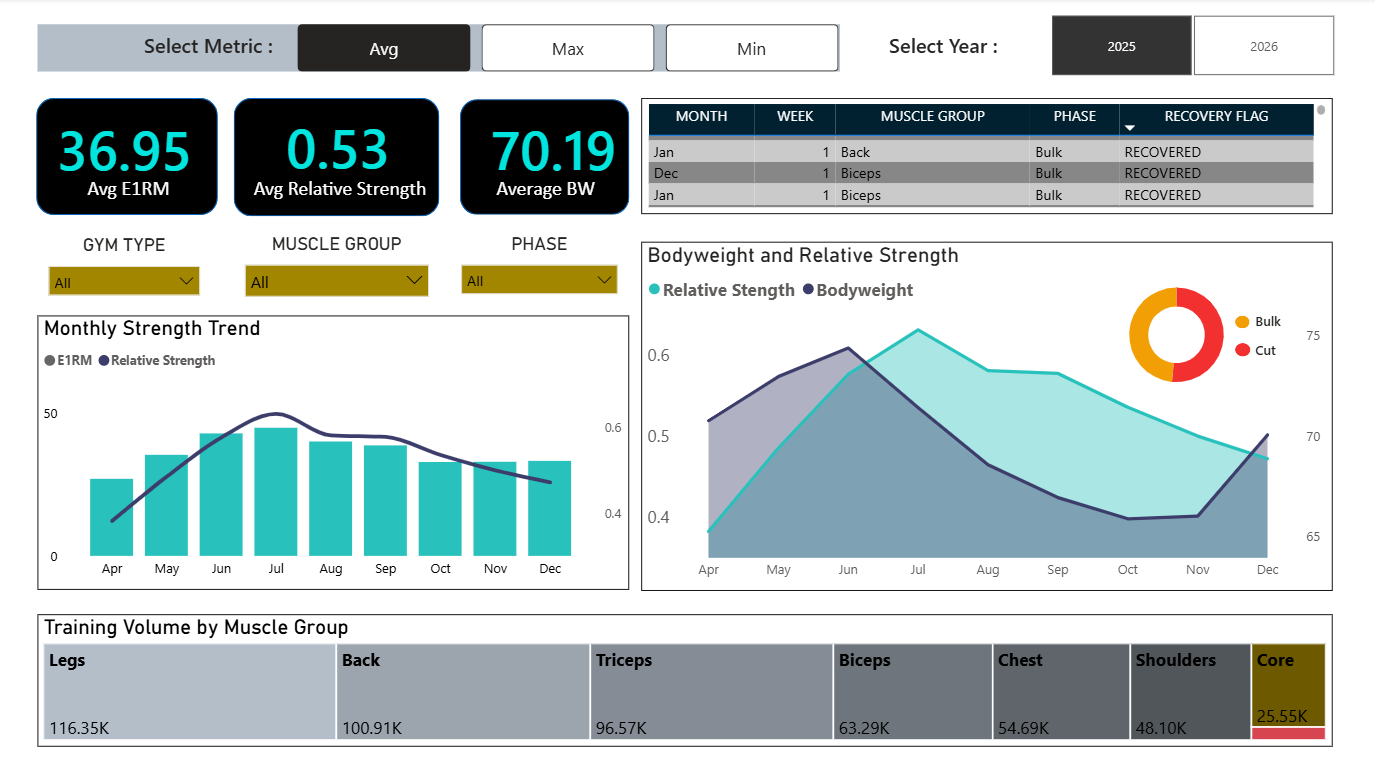

Layout of this report page (visuals, bound fields, positions):
{"tool":"powerbi","page":{"name":"Page 1","canvas":[1280,720],"ordinal":0},"visuals":[{"type":"slicer","title":"MUSCLE GROUP","fields":{"Values":["weekly_workout.MUSCLE_GROUP"]},"box":[217.5,218.8,191.2,75],"z":0},{"type":"tableEx","fields":{"Values":["weekly_workout.MONTH","weekly_workout.WEEK","weekly_workout.MUSCLE_GROUP","weekly_workout.PHASE","weekly_workout.RECOVERY_FLAG"]},"box":[596.5,93,643,108.1],"z":1000},{"type":"shape","box":[34.9,24.4,746.5,44.2],"z":2000},{"type":"shape","title":"Shape kp","box":[33.3,93.3,168.9,108.9],"z":3000},{"type":"cardVisual","title":"Card kp1 avg","fields":{"Data":["Avg(weekly_workout.AVG_E1RM)"]},"box":[25,100.8,276.7,100.8],"z":4000},{"type":"shape","title":"Shape kp","box":[217.5,92.5,191.2,110],"z":5000},{"type":"cardVisual","title":"card kp2 avg","fields":{"Data":["Avg(weekly_workout.AVG_RELATIVE_STRENGTH)"]},"box":[236.9,83.1,243.1,118.5],"z":6000},{"type":"textbox","title":"Text box Kpi3 avg","box":[192.5,160,250.8,65.8],"z":7000},{"type":"shape","title":"Shape kp","box":[427.5,93.8,157.5,107.5],"z":8000},{"type":"cardVisual","title":"card kp3 avg","fields":{"Data":["Avg(feature_engineered_dataset.BODYWEIGHT)"]},"box":[427.8,101.1,276.7,100],"z":9000},{"type":"slicer","title":"PHASE","fields":{"Values":["weekly_workout.PHASE"]},"box":[418.8,218.8,166.2,75],"z":10000},{"type":"slicer","title":"GYM TYPE","fields":{"Values":["weekly_workout.GYM_TYPE"]},"box":[35,220,161.2,73.8],"z":11000},{"type":"treemap","title":"Training Volume by Muscle Group","fields":{"Group":["weekly_workout.MUSCLE_GROUP"],"Values":["Sum(weekly_workout.TOTAL_VOLUME)"]},"box":[34.9,573.3,1204.7,123.3],"z":12000},{"type":"lineClusteredColumnComboChart","title":"Monthly Strength Trend","fields":{"Y2":["Avg(weekly_workout.AVG_RELATIVE_STRENGTH)"],"Y":["Avg(weekly_workout.AVG_E1RM)"],"Category":["feature_engineered_dataset.MONTH"]},"box":[35,295,550,255],"z":13000},{"type":"lineChart","title":"Bodyweight and Relative Strength","fields":{"Y":["Avg(weekly_workout.AVG_RELATIVE_STRENGTH)"],"Y2":["Avg(feature_engineered_dataset.BODYWEIGHT)"],"Category":["feature_engineered_dataset.MONTH"]},"box":[596.5,226.7,643,324.4],"z":14000},{"type":"bookmarkNavigator","box":[276.7,24.4,504.7,44.2],"z":15000},{"type":"donutChart","title":"Donut PHASE","fields":{"Category":["weekly_workout.PHASE"],"Y":["CountNonNull(weekly_workout.WEEK)"]},"box":[981.7,253.5,226.4,120],"z":16000},{"type":"textbox","box":[129.1,26.7,159.3,41.9],"z":17000},{"type":"textbox","title":"Text box Kpi1 avg","box":[25.1,160.8,183.8,65],"z":18000},{"type":"textbox","title":"Text box Kpi2 avg","box":[443.7,160.3,132.9,65.7],"z":19000},{"type":"shape","title":"D1 Shape","box":[1148.8,295.4,13.7,12.1],"z":20000},{"type":"shape","title":"D2 Shape","box":[1148.5,321.3,14.4,12.5],"z":21000},{"type":"textbox","title":"Donut Text box","box":[1162.9,313.2,102.5,55.6],"z":22000},{"type":"textbox","title":"Donut Text box","box":[1162.9,286.3,102.5,55.6],"z":23000},{"type":"slicer","fields":{"Values":["feature_engineered_dataset.YEAR"]},"box":[952.3,9.3,312.8,69.8],"z":36000},{"type":"textbox","box":[822.1,26.7,159.3,41.9],"z":37000}]}

Visuals, with their boxes in screenshot pixels (x1, y1, x2, y2), scaled from the page's 1280x720 canvas onto the 1375x772 screenshot:
"MUSCLE GROUP" slicer: bbox=[234, 235, 439, 315]
tableEx - weekly_workout.MONTH x weekly_workout.WEEK: bbox=[641, 100, 1331, 216]
shape: bbox=[37, 26, 839, 74]
"Shape kp" shape: bbox=[36, 100, 217, 217]
"Card kp1 avg" cardVisual: bbox=[27, 108, 324, 216]
"Shape kp" shape: bbox=[234, 99, 439, 217]
"card kp2 avg" cardVisual: bbox=[254, 89, 516, 216]
"Text box Kpi3 avg" textbox: bbox=[207, 172, 476, 242]
"Shape kp" shape: bbox=[459, 101, 628, 216]
"card kp3 avg" cardVisual: bbox=[460, 108, 757, 216]
"PHASE" slicer: bbox=[450, 235, 628, 315]
"GYM TYPE" slicer: bbox=[38, 236, 211, 315]
"Training Volume by Muscle Group" treemap: bbox=[37, 615, 1332, 747]
"Monthly Strength Trend" lineClusteredColumnComboChart: bbox=[38, 316, 628, 590]
"Bodyweight and Relative Strength" lineChart: bbox=[641, 243, 1331, 591]
bookmarkNavigator: bbox=[297, 26, 839, 74]
"Donut PHASE" donutChart: bbox=[1055, 272, 1298, 400]
textbox: bbox=[139, 29, 310, 74]
"Text box Kpi1 avg" textbox: bbox=[27, 172, 224, 242]
"Text box Kpi2 avg" textbox: bbox=[477, 172, 619, 242]
"D1 Shape" shape: bbox=[1234, 317, 1249, 330]
"D2 Shape" shape: bbox=[1234, 345, 1249, 358]
"Donut Text box" textbox: bbox=[1249, 336, 1359, 395]
"Donut Text box" textbox: bbox=[1249, 307, 1359, 367]
slicer - feature_engineered_dataset.YEAR: bbox=[1023, 10, 1359, 85]
textbox: bbox=[883, 29, 1054, 74]
